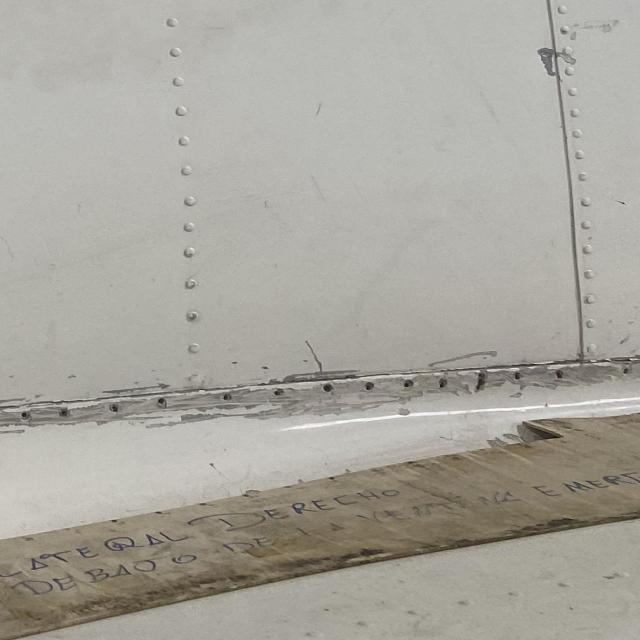Paint-off: (533, 46, 568, 76), (394, 408, 413, 417)
Scratch: (0, 363, 638, 438), (428, 350, 498, 368), (304, 340, 328, 375)
